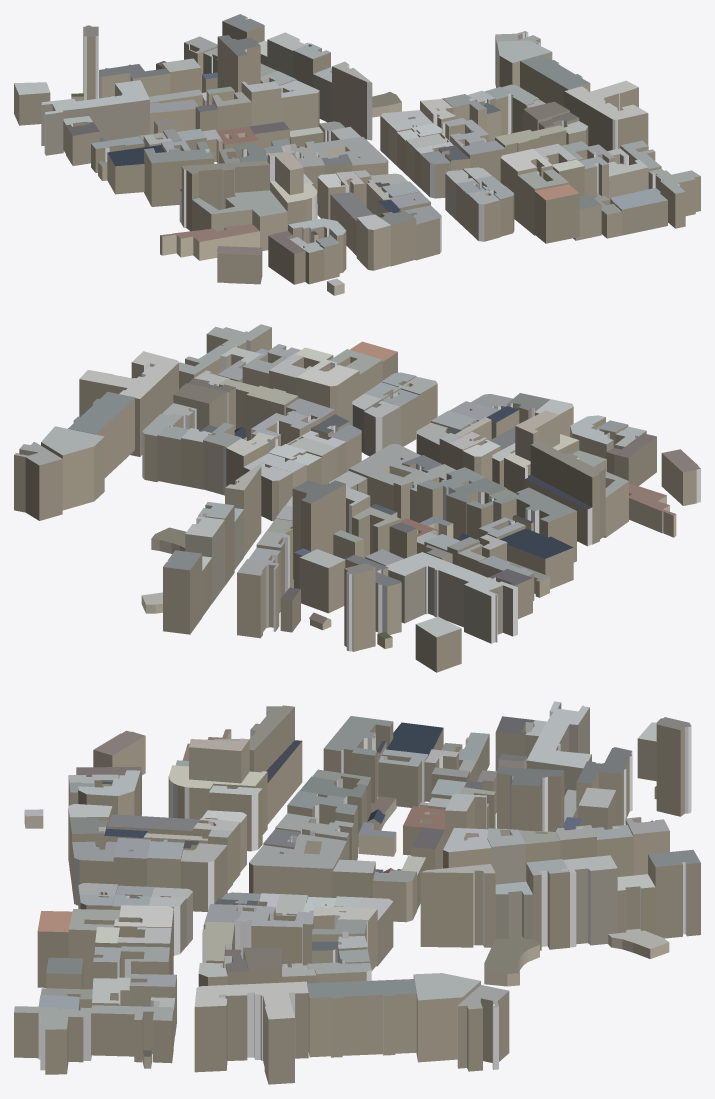
3 views of the same model, one above another, from view 1: azimuth 30°, elevation 25°; view 2: azimuth 150°, elevation 25°; view 3: azimuth 270°, elevation 25° (orthographic). The views are drawn at different scales.
Visible parts, largest first — view 1: tuile; view 2: tuile; view 3: tuile.
Part boxes in pixels (box(x1,y1,x2,y2)): tuile: box(14, 14, 700, 295); tuile: box(14, 324, 700, 672); tuile: box(14, 701, 700, 1084).
Bounding box in the file's own units: 286 × 55.5 × 266.
